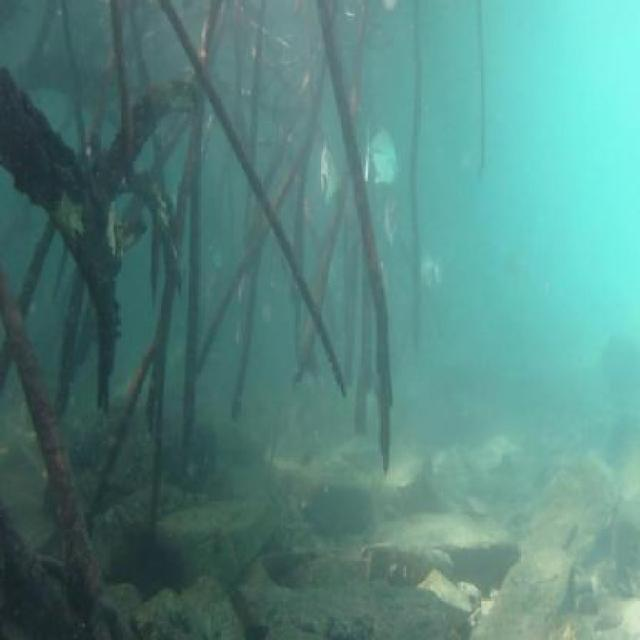Caranx_sexfasciatus_juvenile: (316, 125, 344, 221), (364, 108, 396, 188), (416, 244, 450, 305), (385, 191, 413, 258)
